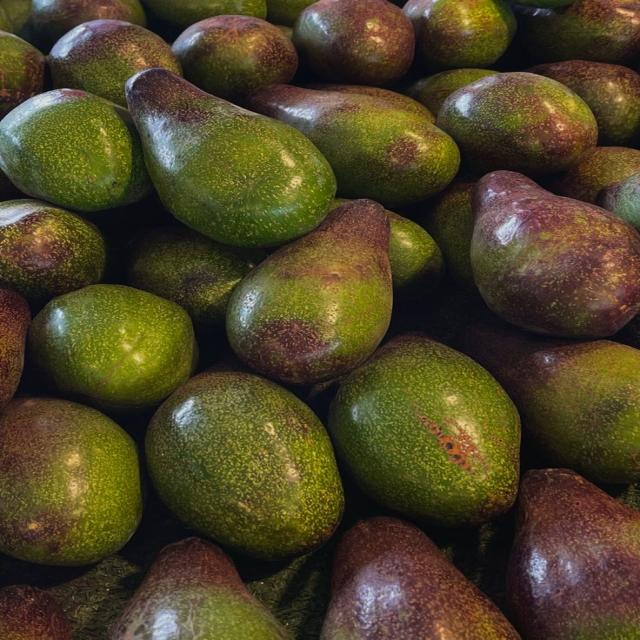avocado: (126, 68, 337, 247), (145, 369, 343, 559), (329, 333, 518, 526), (226, 199, 392, 384), (454, 321, 639, 483), (470, 170, 639, 337), (250, 84, 460, 209), (319, 517, 520, 639), (0, 397, 141, 565), (508, 469, 639, 639), (29, 285, 197, 414), (107, 537, 290, 639), (0, 89, 150, 211), (437, 72, 597, 176), (50, 20, 182, 107), (172, 15, 297, 105), (0, 199, 106, 305), (293, 0, 413, 85), (530, 60, 639, 146), (512, 0, 639, 64), (403, 0, 516, 70), (387, 211, 443, 297), (0, 31, 44, 119)
